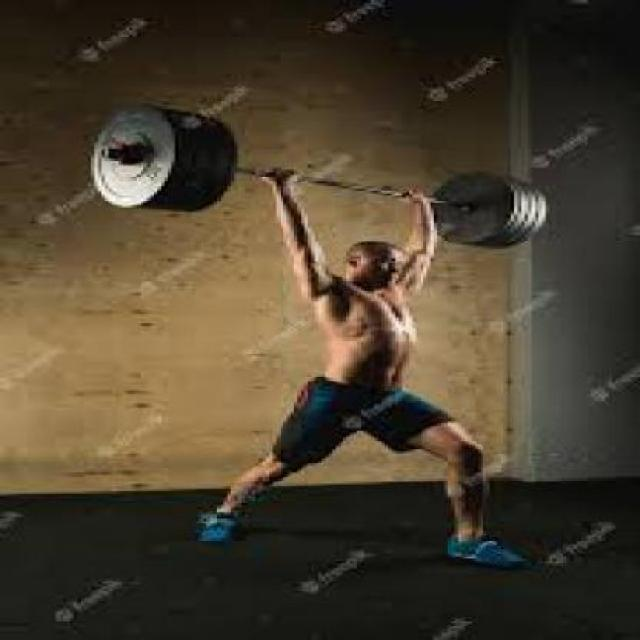Barbell: (94, 142, 115, 164)
